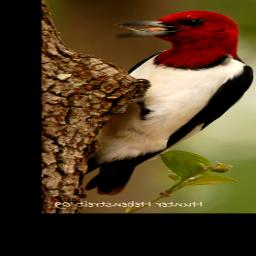Woodpecker: (85, 10, 255, 195)
